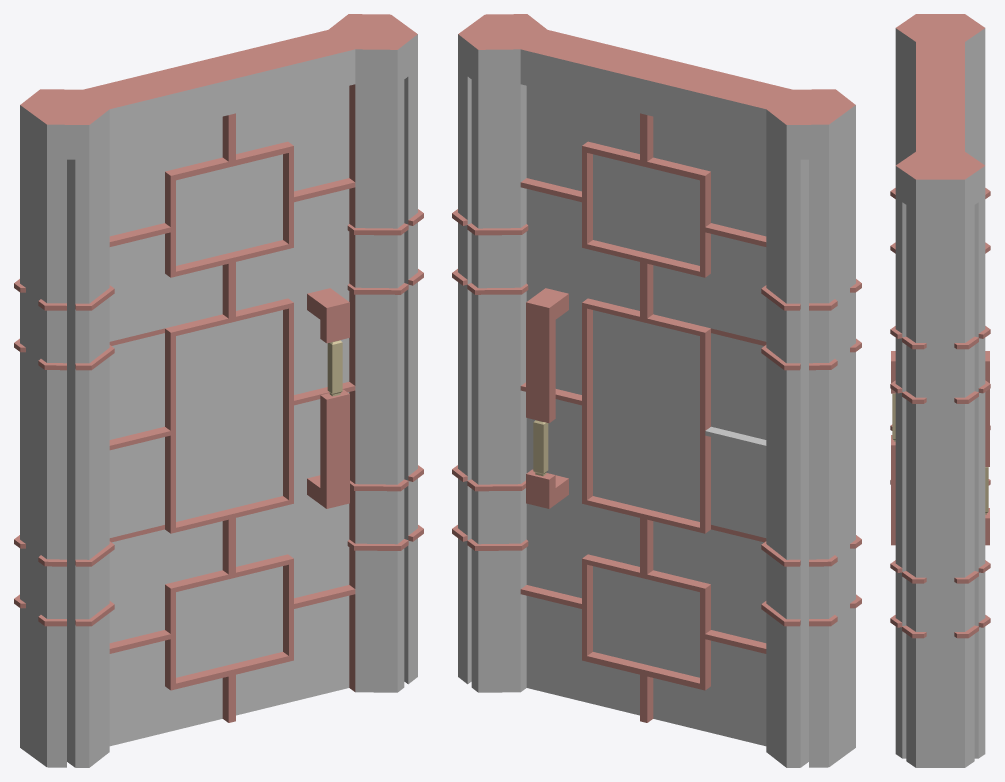
The model's file is porte.fbx.
3 renders of one model, left to right at view 1: azimuth 30°, elevation 25°; view 2: azimuth 150°, elevation 25°; view 3: azimuth 270°, elevation 25°, orthographic. The views are drawn at different scales.
Parts seen in each view (by area): view 1: porte_module; view 2: porte_module; view 3: porte_module.
Part boxes in pixels (<box>): porte_module: <box>14,14,423,767</box>; porte_module: <box>452,14,861,767</box>; porte_module: <box>890,14,990,767</box>.
Bounding box in the file's own units: 0.1 × 0.162 × 0.025.
